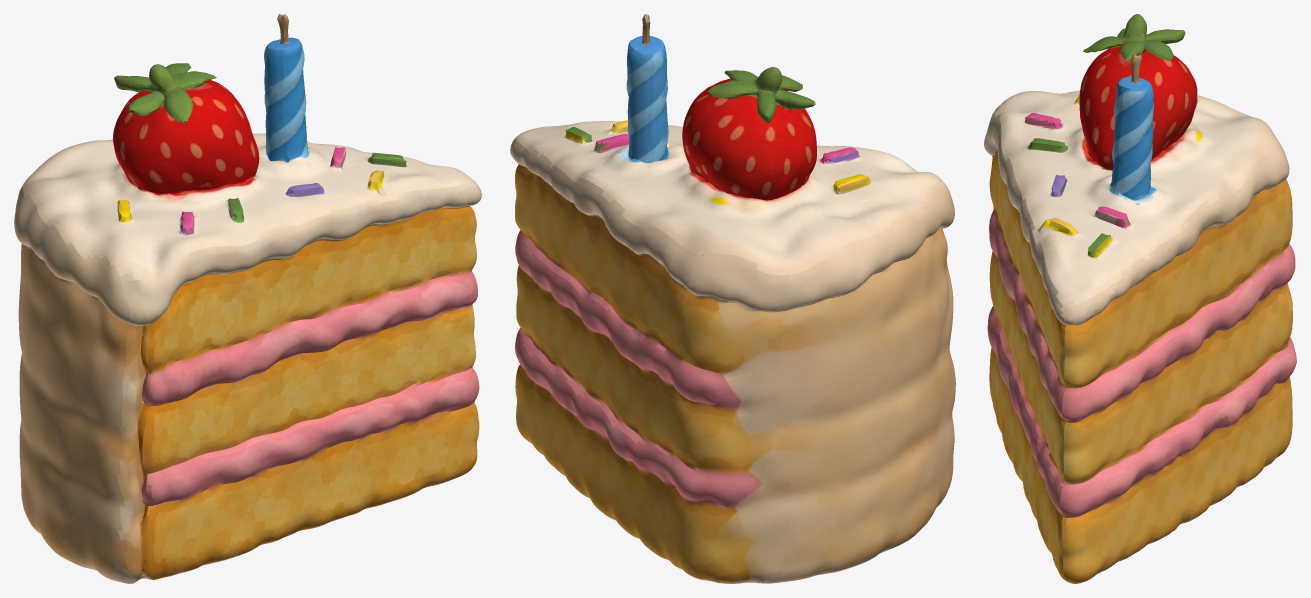
File: Meshy_AI_Birthday_Cake_Slice_1122031806_texture.glb
3 views of the same model, side by side, from view 1: azimuth 30°, elevation 25°; view 2: azimuth 150°, elevation 25°; view 3: azimuth 270°, elevation 25° (orthographic). The views are drawn at different scales.
Parts seen in each view (by area): view 1: Mesh0; view 2: Mesh0; view 3: Mesh0.
Part boxes in pixels (x1,y1,x2,y2): Mesh0: [14, 14, 481, 583]; Mesh0: [510, 14, 955, 583]; Mesh0: [984, 14, 1296, 583].
Size of the model in its own units: 1.75 by 1.9 by 1.17.
1 material, 1 textured.
